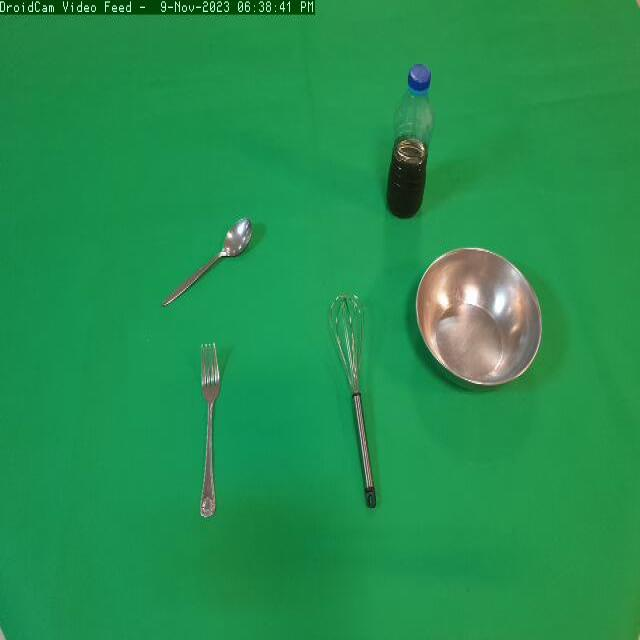bowl: (413, 245, 548, 400)
fork: (188, 333, 242, 533)
fullbottle: (382, 57, 442, 229)
spoon: (156, 200, 256, 308)
whisk: (328, 288, 402, 520)
